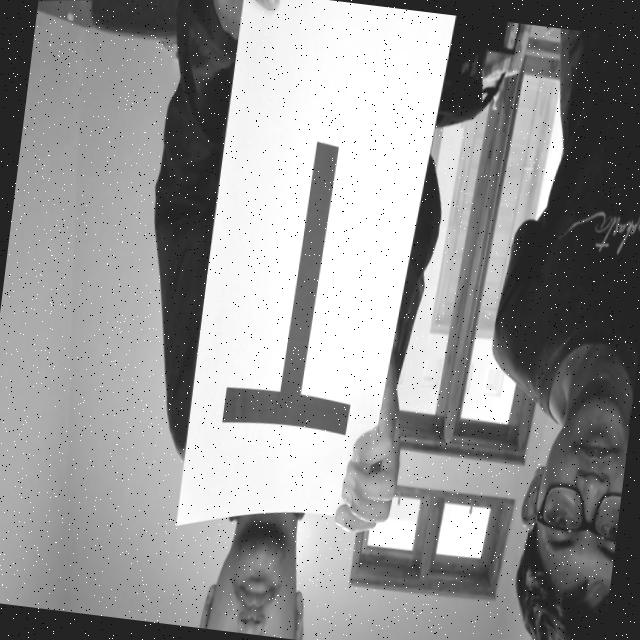t: (198, 106, 396, 460)
